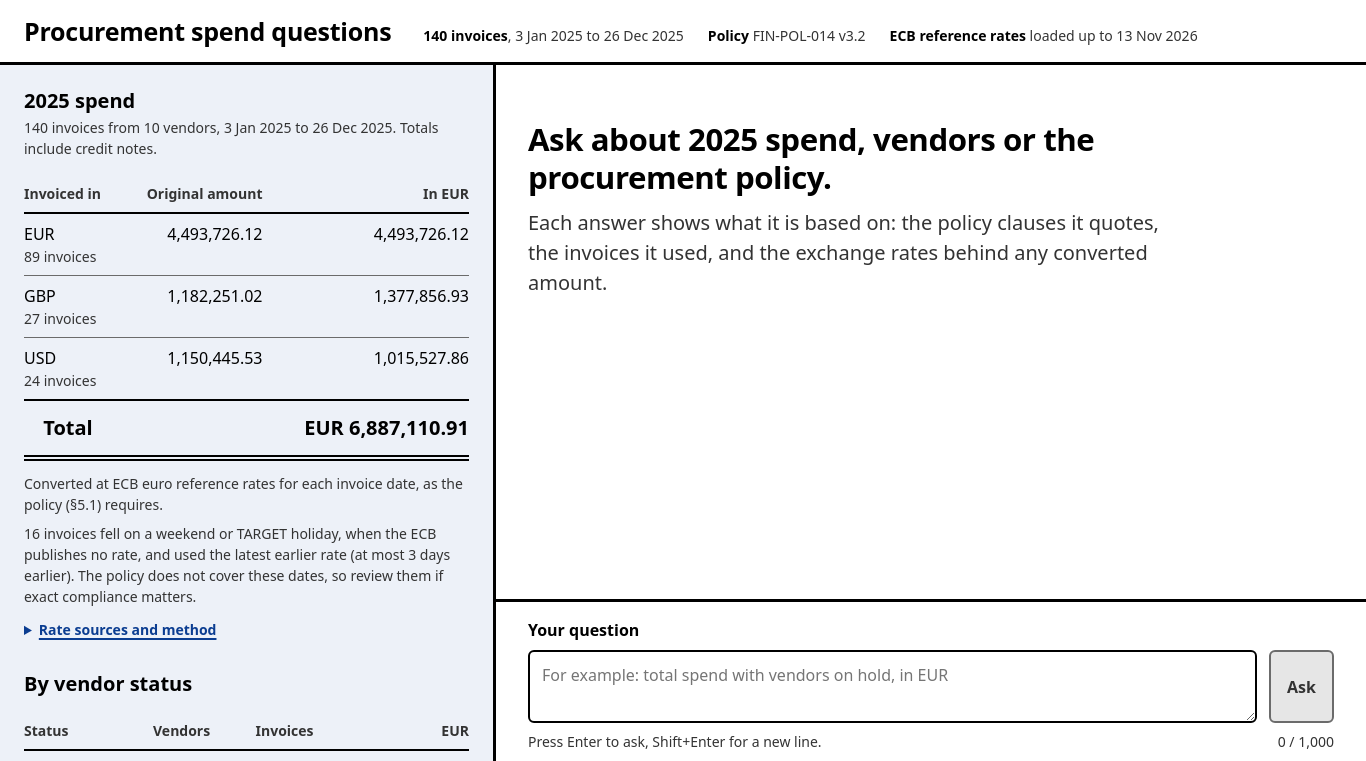
Test case: asking questions › blocks a second question while one is pending, and can cancel
The width and height of the screenshot is (1366, 761).
In the text box labelled "Your question": {"x": 893, "y": 687} [528,650,1257,723], type "Slow question"
Then press Enter
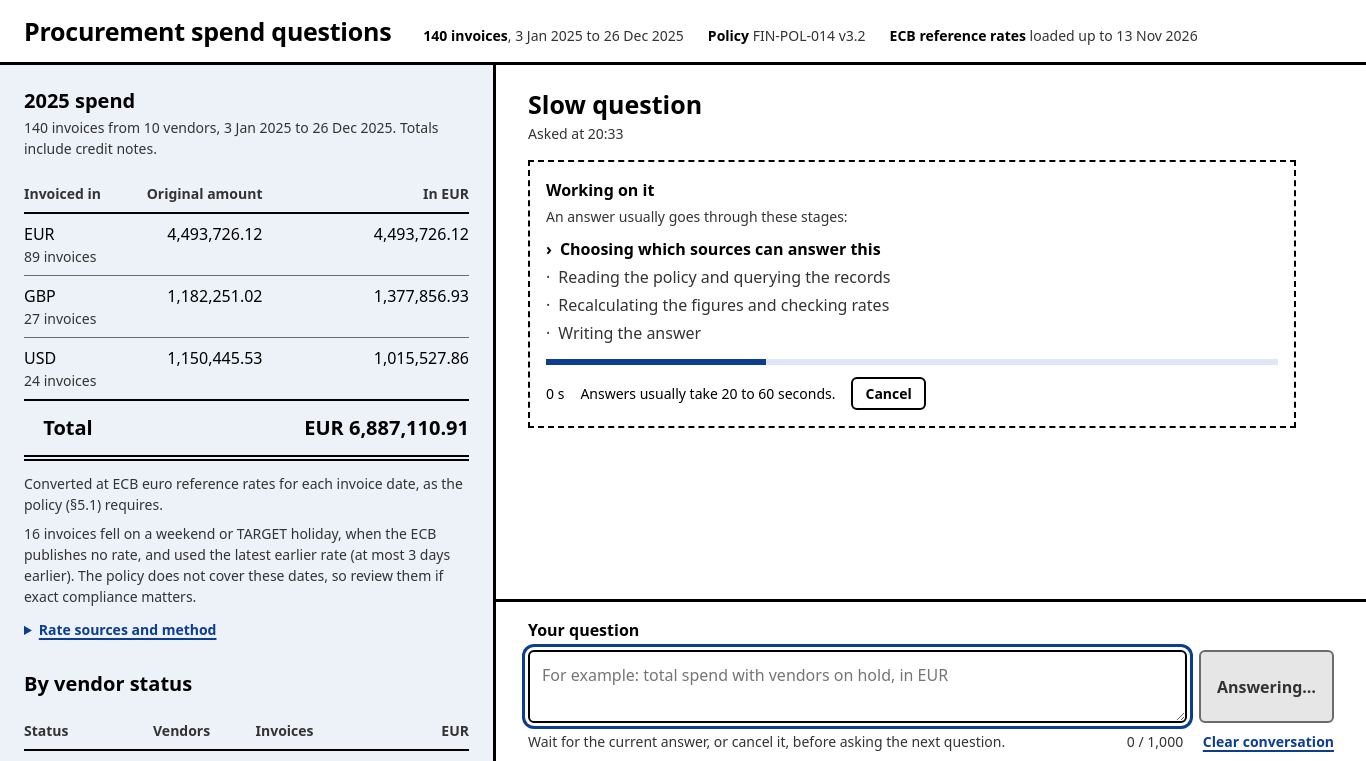
Expected: the button "Answering…" is disabled, [1199,650,1334,723]
Result: the text "Working on it" is shown at [546,179,654,201]
Click the button "Cancel": {"x": 889, "y": 394} [852,377,926,410]
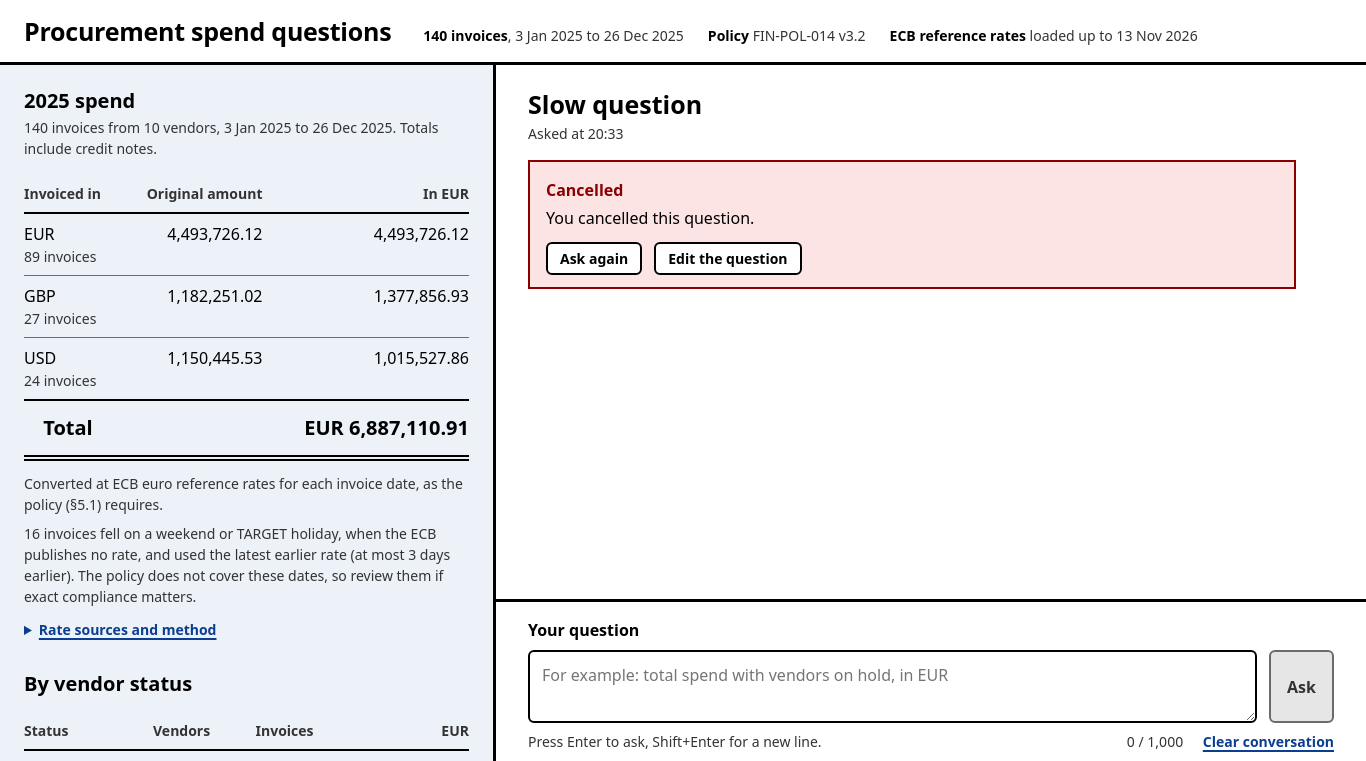
Result: the text "You cancelled this question." is shown at [546,207,754,229]
Result: the button "Ask again" is shown at [546,242,642,275]
